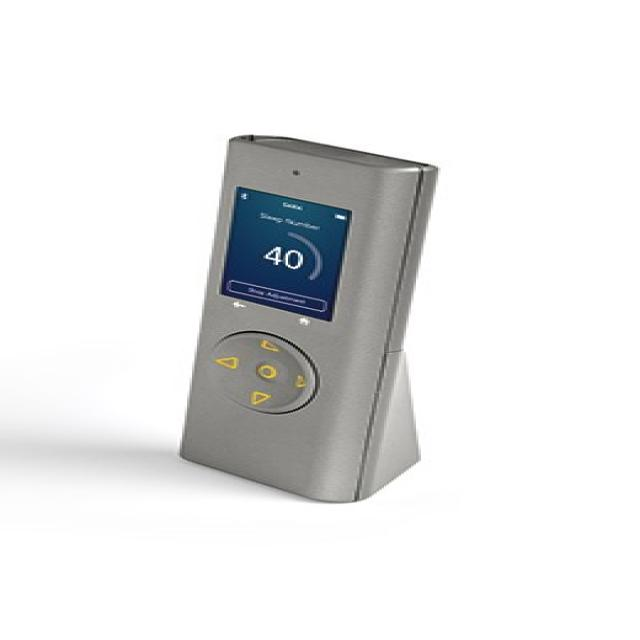remote: (176, 136, 431, 508)
